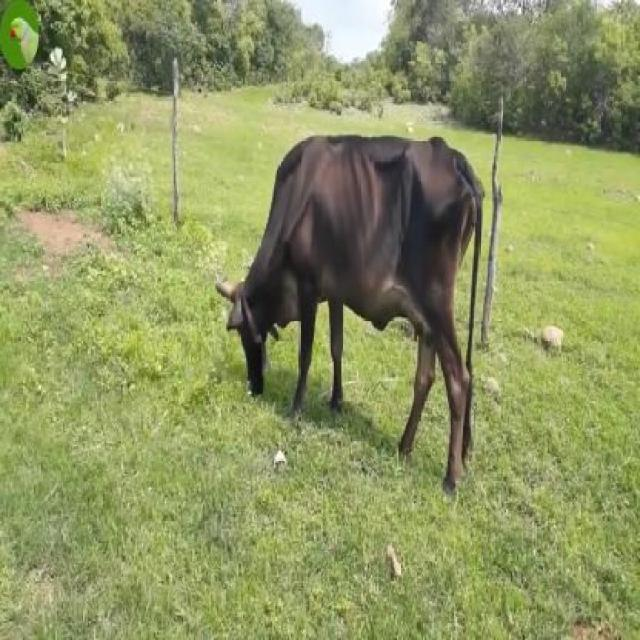Cow: (226, 136, 485, 507)
